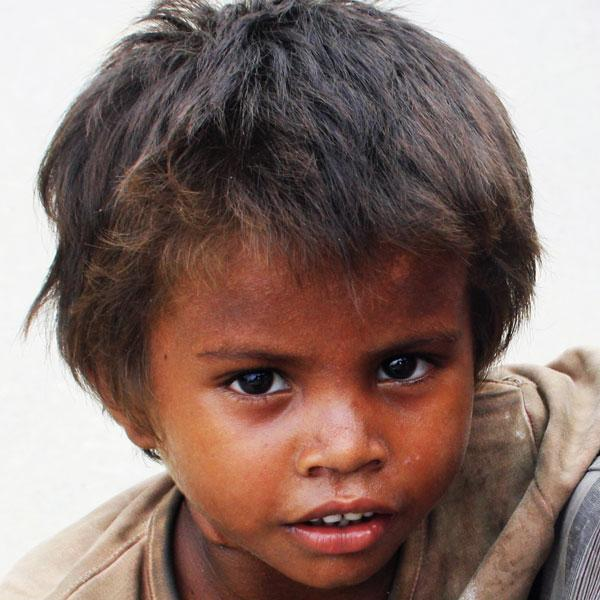Eyes: (202, 358, 303, 409), (364, 339, 453, 392)
